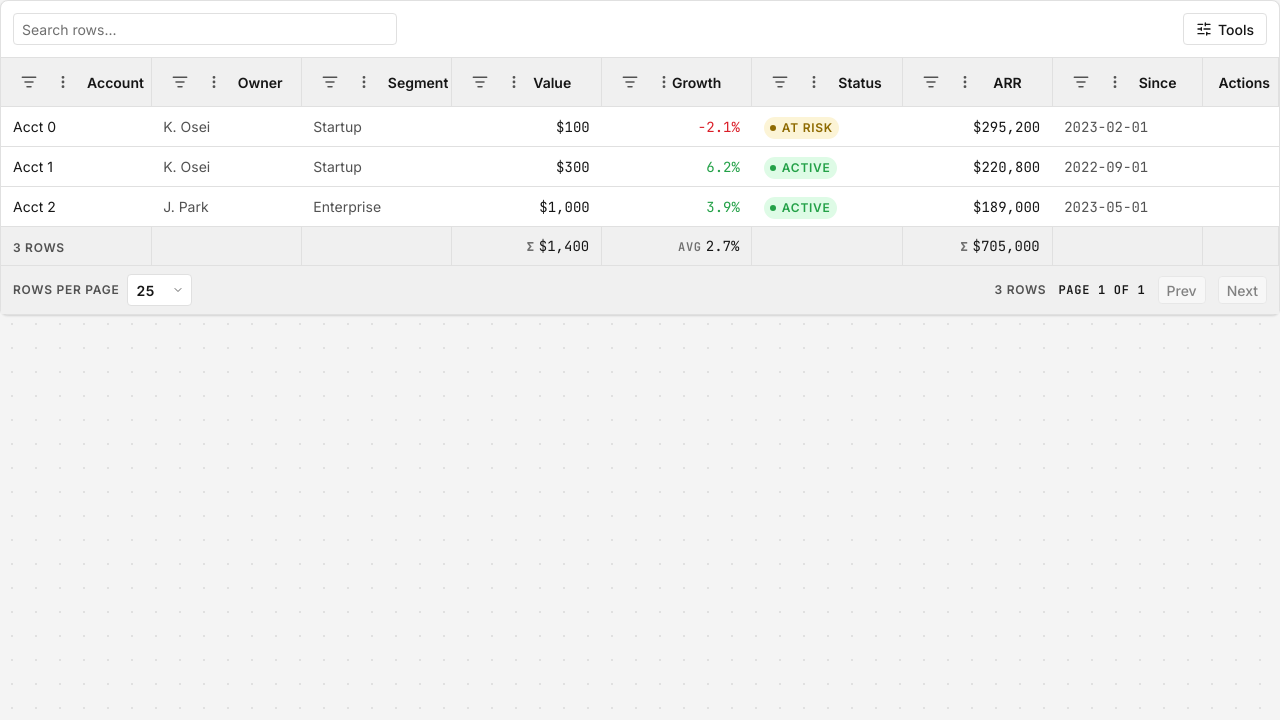
Test case: DataGrid grouping & aggregation › expands and collapses all grouped rows from the grouping toolbar
Click the button named "Segment column menu".
click(364, 82)  # box [348,66,380,98]
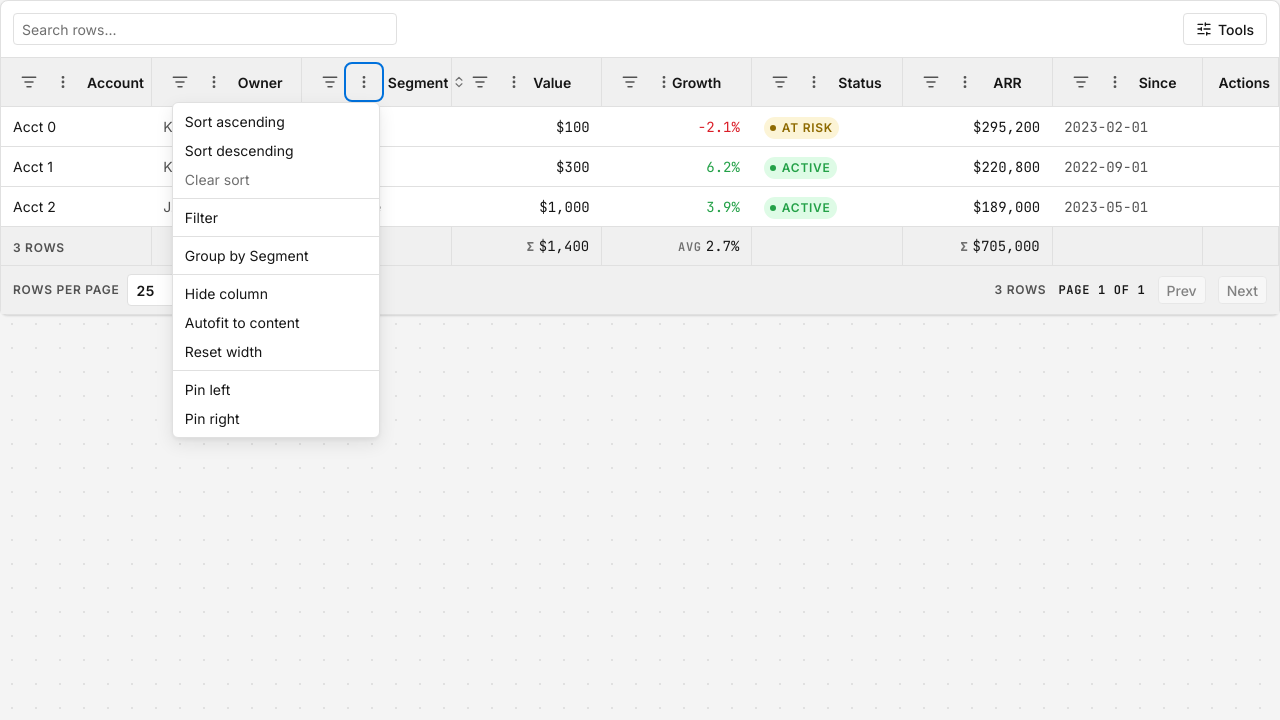
Click the menu item "Group by Segment".
click(276, 256)  # box [173,241,379,270]
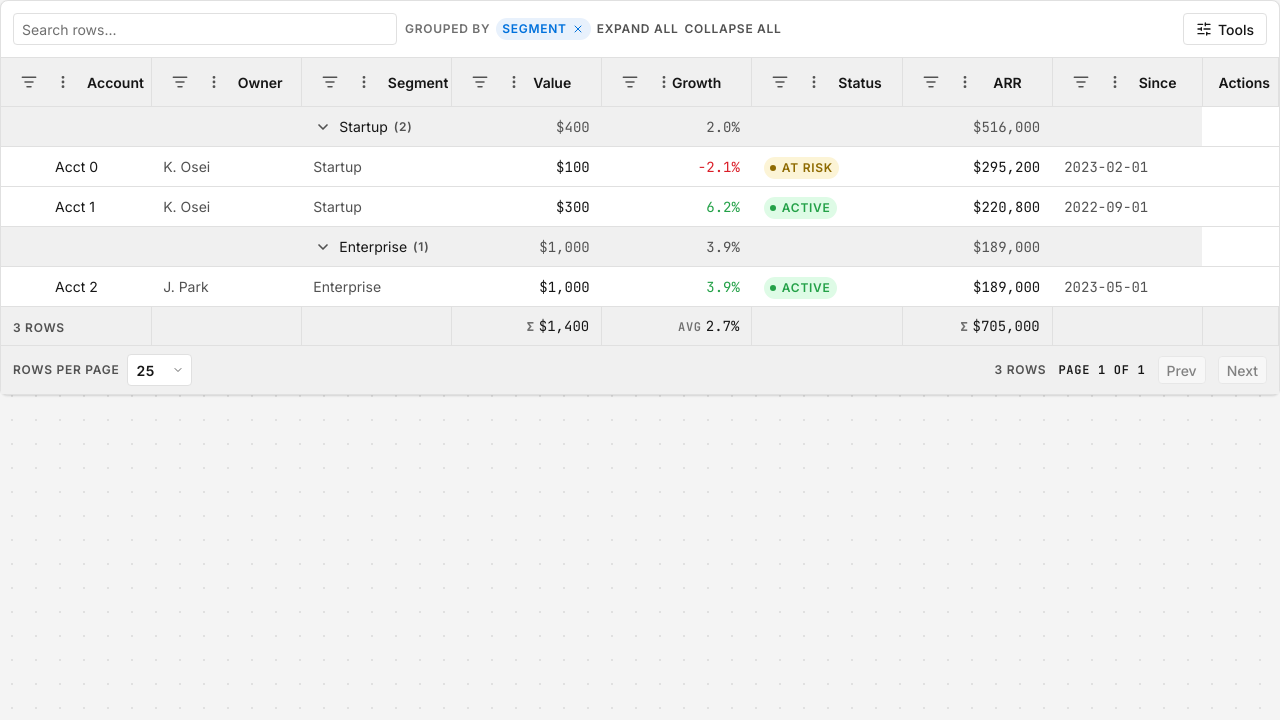
Click the button "Collapse all".
click(733, 29)  # box [684,20,782,38]
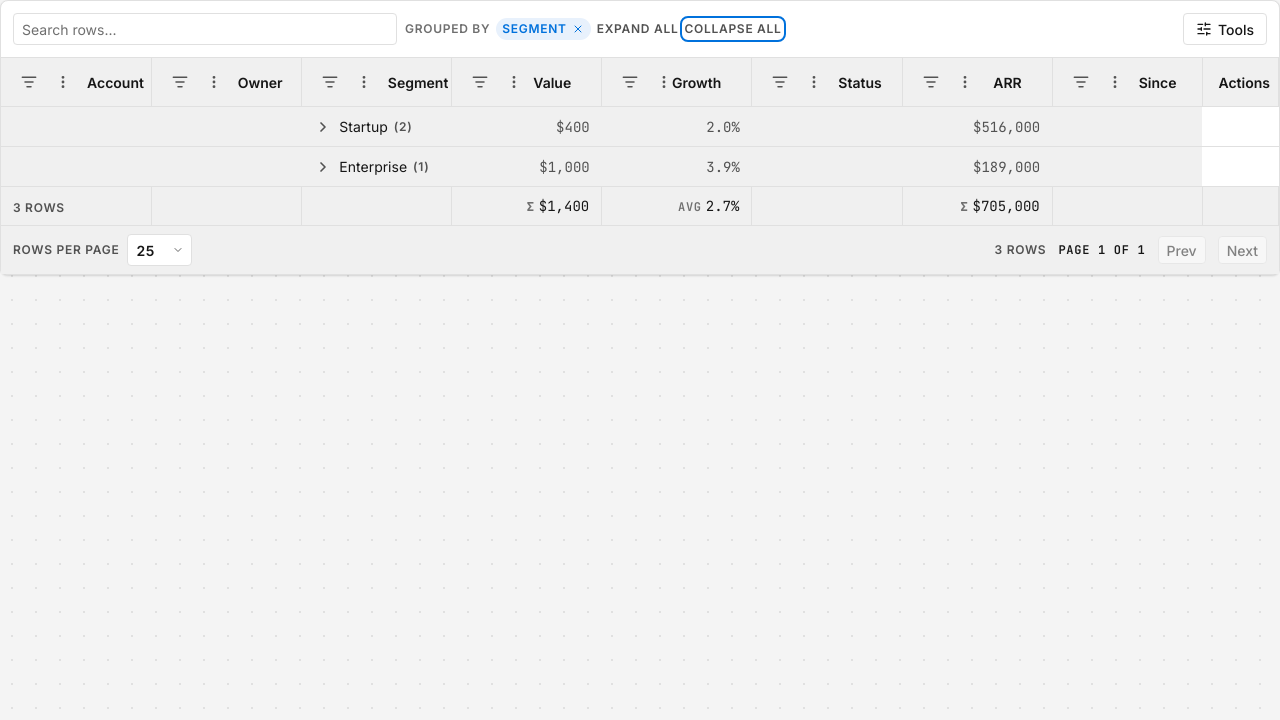
Click the button "Expand all".
click(638, 29)  # box [597,20,678,38]
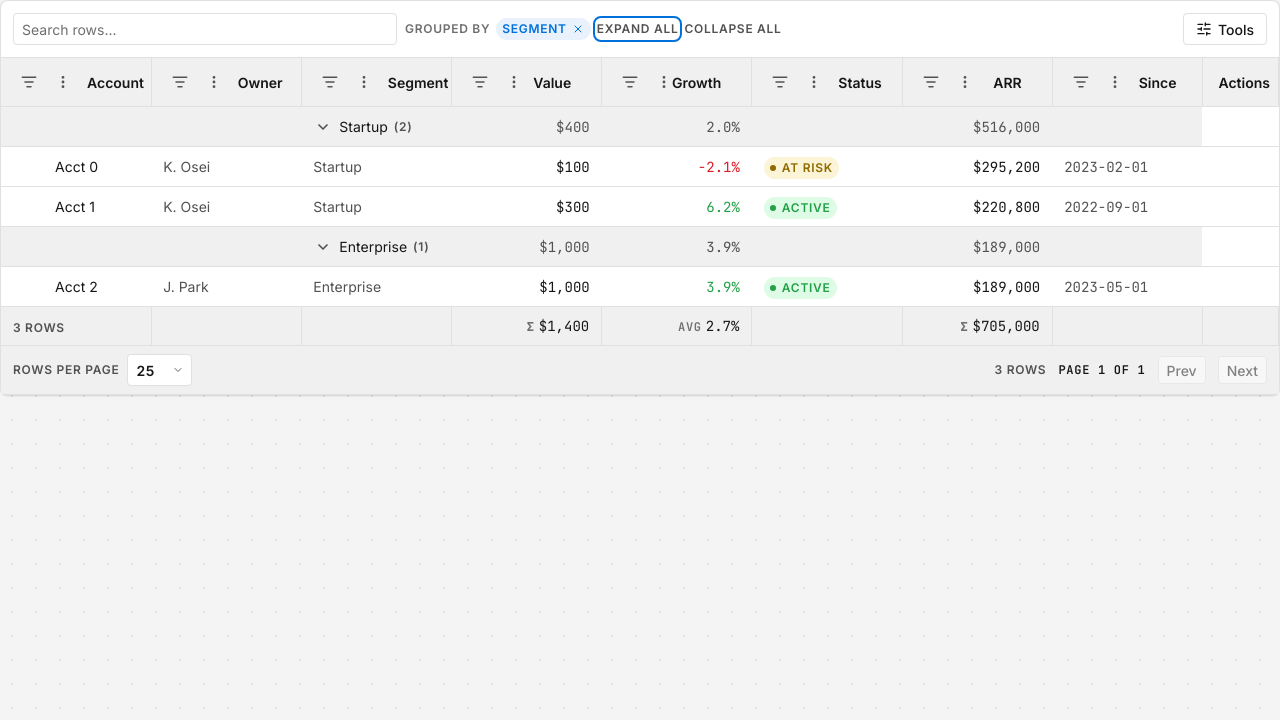
Result: the row that starts with "Acct 0" is shown at [1,146,1278,186]
Result: the row that starts with "Acct 2" is shown at [1,266,1278,306]
